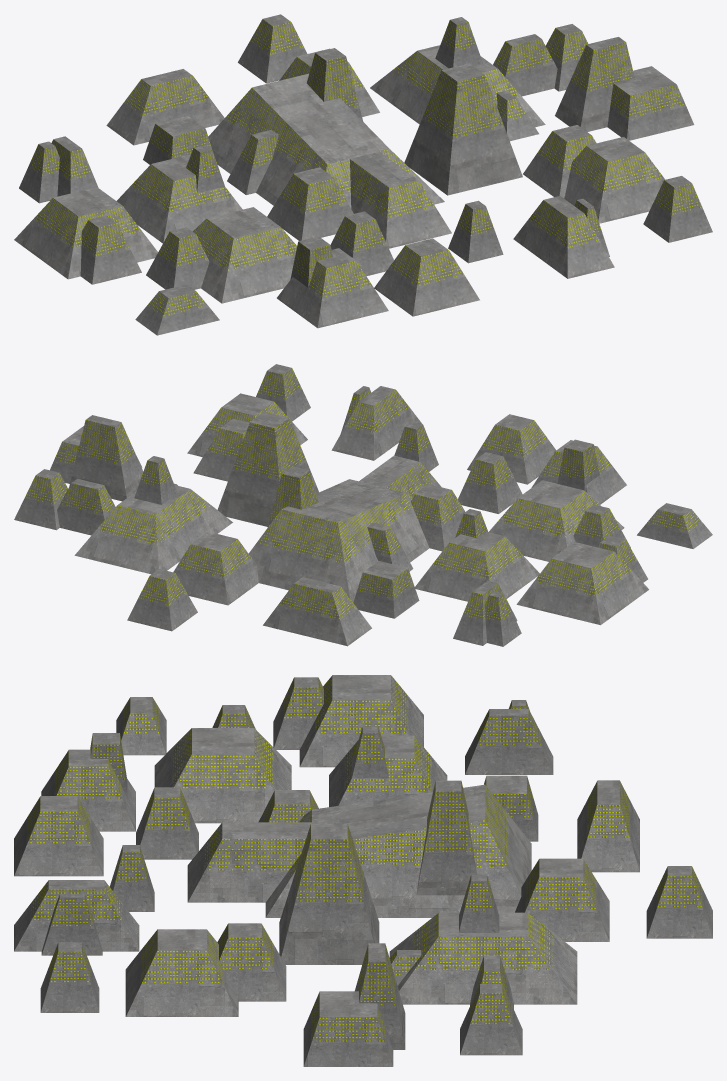
File: SM_Building_03.fbx
3 views of the same model, one above another, from view 1: azimuth 30°, elevation 25°; view 2: azimuth 150°, elevation 25°; view 3: azimuth 270°, elevation 25° (orthographic). The views are drawn at different scales.
Visible parts, largest first — view 1: SM_Building_03; view 2: SM_Building_03; view 3: SM_Building_03.
Part boxes in pixels (x1,y1,x2,y2): SM_Building_03: (14,14,712,335); SM_Building_03: (14,364,712,646); SM_Building_03: (14,675,712,1066).
Bounding box in the file's own units: 18.86 × 2.8 × 15.82.
